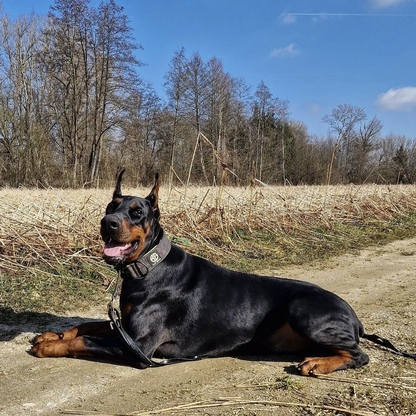doberman: (53, 168, 378, 378)
